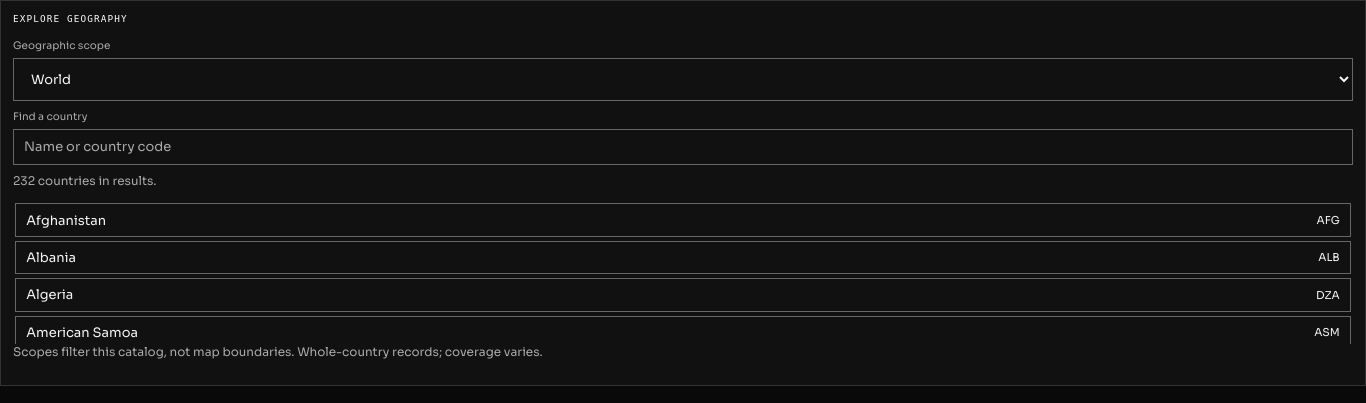
Test: CountryExplorer › clears the query on scope change and disables navigation while paused
Later steps or results of the test are not shown.
Type "no results" into the search field labelled "Find a country" at (683, 147), box [13,129,1353,164]
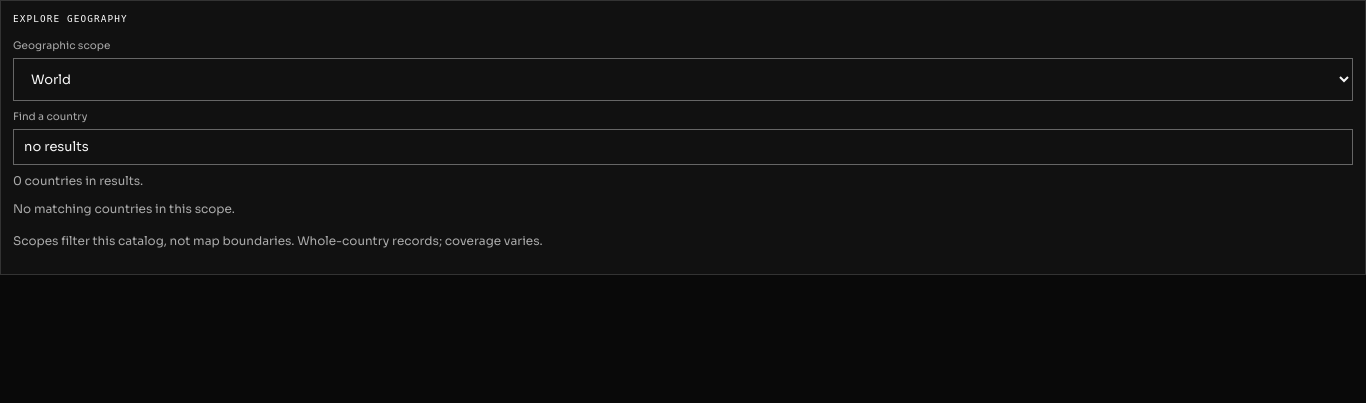
Check: the text "No matching countries in this scope." is shown, box [13,201,235,216]
Select "Balkans" in the dropdown labelled "Geographic scope" at (683, 80), box [13,58,1353,101]
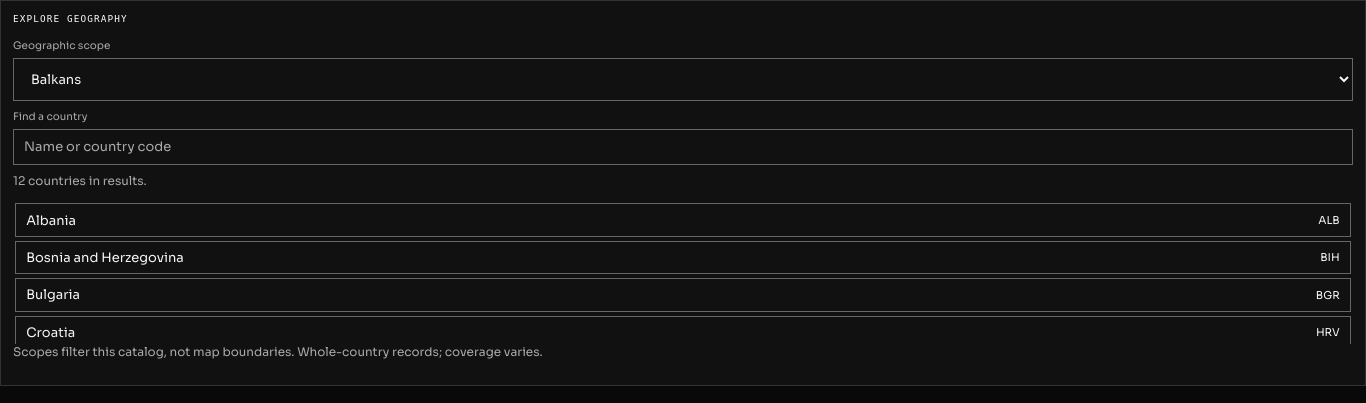
Check: the search field labelled "Find a country" is empty, box [13,129,1353,164]
